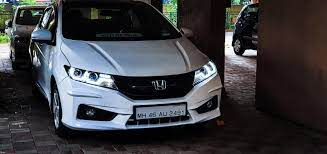headlight: (60, 58, 218, 89)
